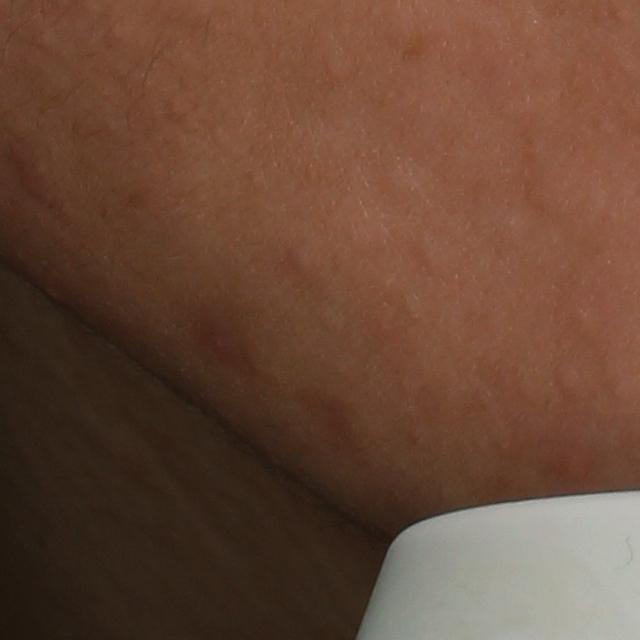comedo: (379, 160, 422, 208), (285, 242, 318, 280), (550, 359, 582, 395)
